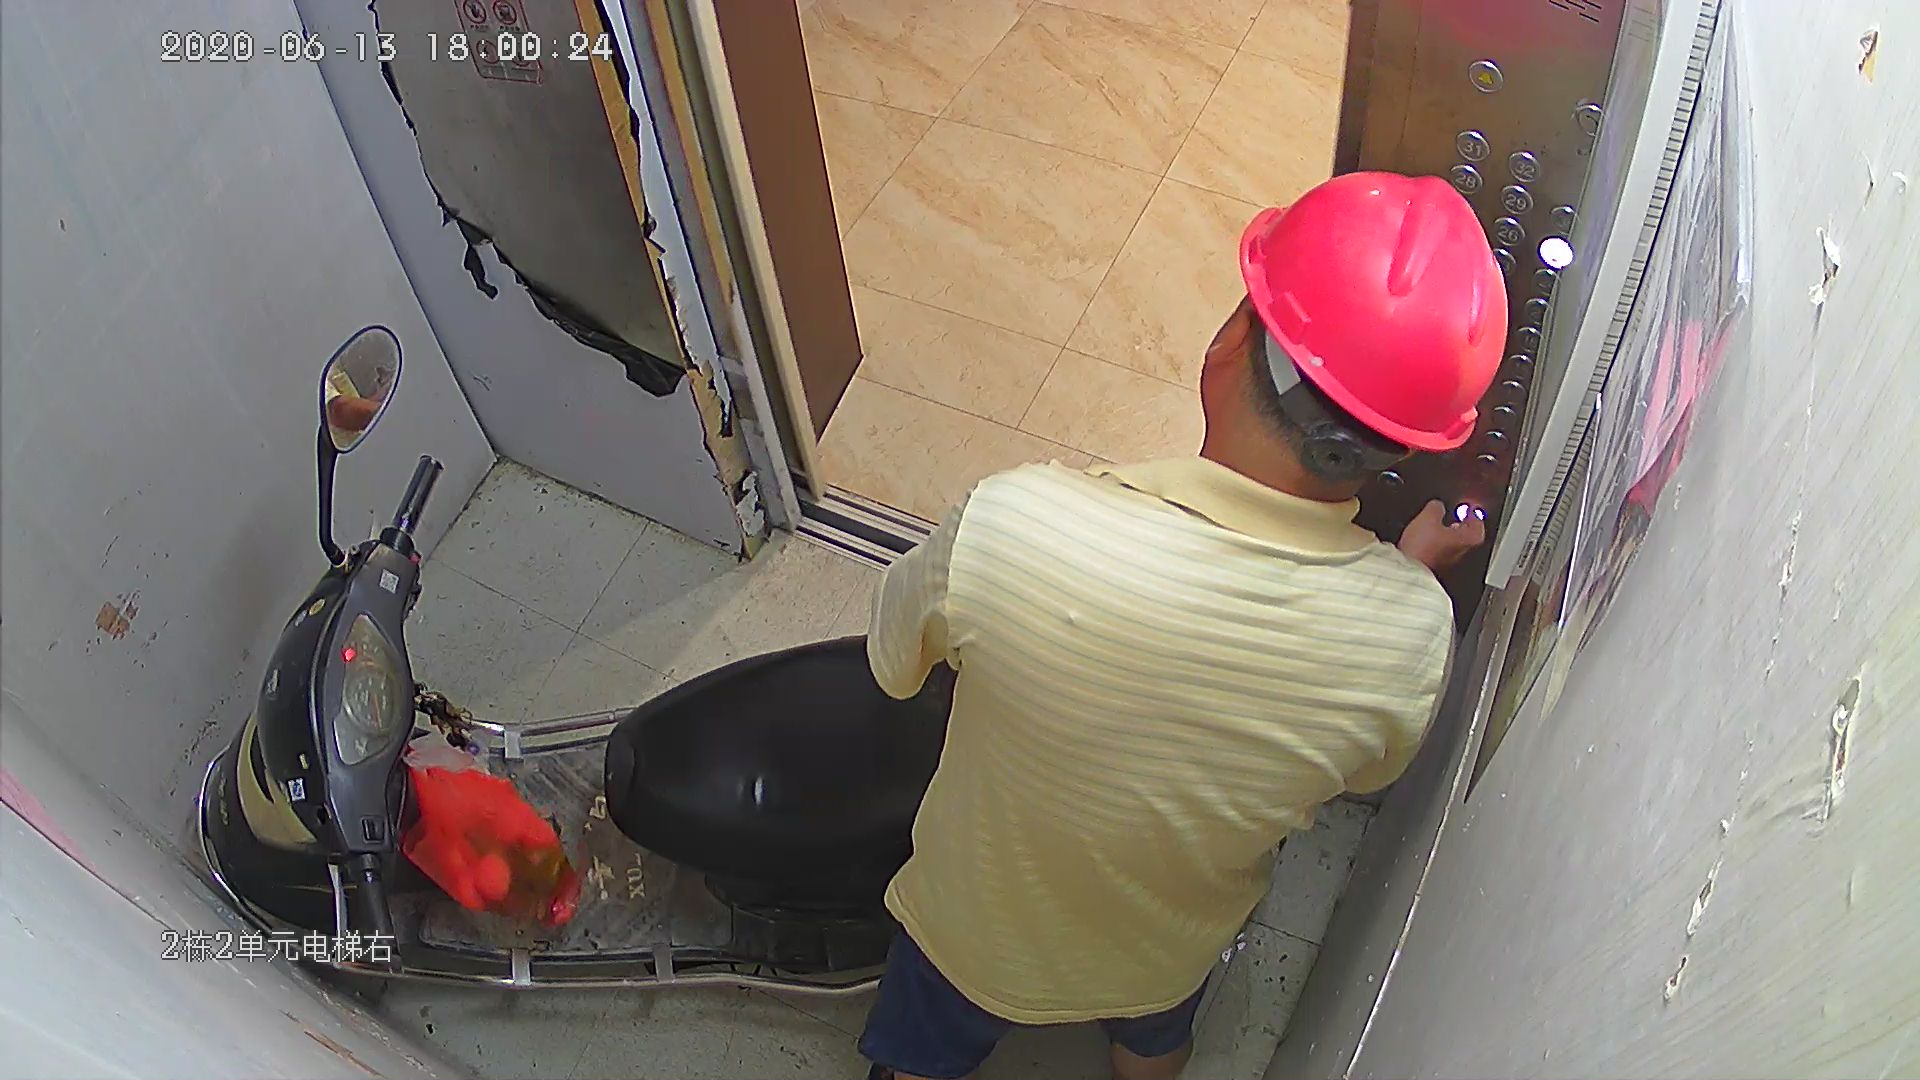Electric-bicycle: (198, 326, 894, 1033)
